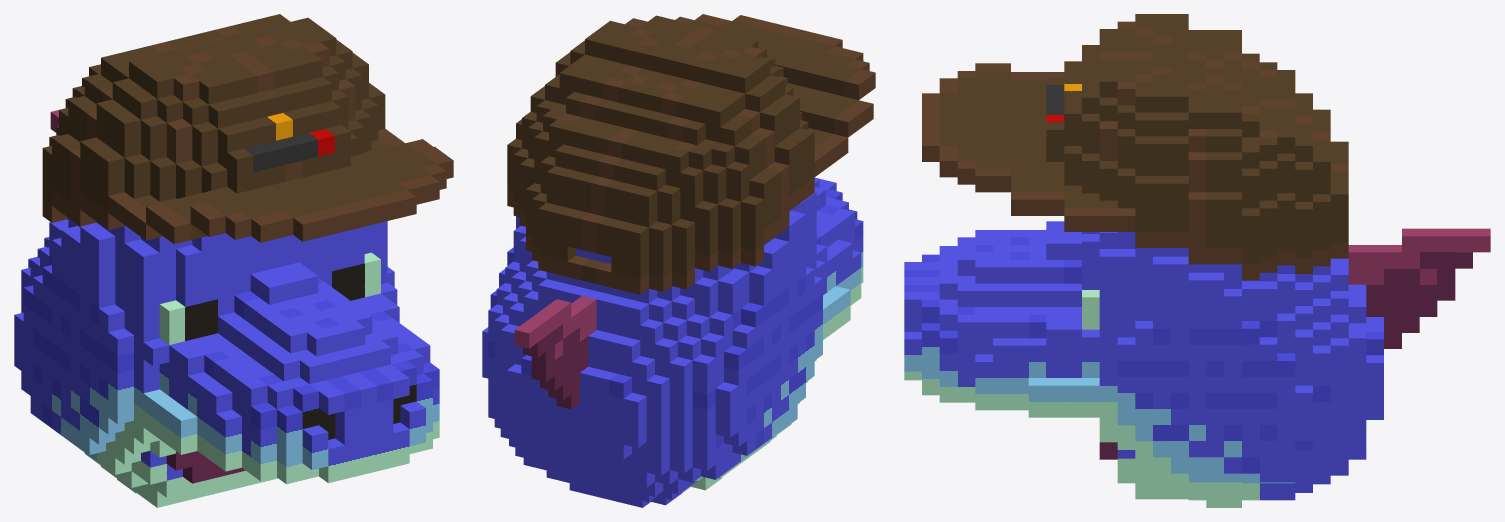
The model's file is wsb hat_red glasses.gltf.
The picture shows the model from 3 angles, left to right: view 1: azimuth 30°, elevation 25°; view 2: azimuth 150°, elevation 25°; view 3: azimuth 270°, elevation 25°; orthographic projection. The views are drawn at different scales.
Visible parts, largest first — view 1: C61_H_WSB_RedG_RBSpec_SkyD_LazerL_VRGg-Mesh; view 2: C61_H_WSB_RedG_RBSpec_SkyD_LazerL_VRGg-Mesh; view 3: C61_H_WSB_RedG_RBSpec_SkyD_LazerL_VRGg-Mesh.
Boxes of the visible parts, box(x1,y1,x2,y2) form: C61_H_WSB_RedG_RBSpec_SkyD_LazerL_VRGg-Mesh: box(14, 14, 453, 507); C61_H_WSB_RedG_RBSpec_SkyD_LazerL_VRGg-Mesh: box(482, 14, 875, 507); C61_H_WSB_RedG_RBSpec_SkyD_LazerL_VRGg-Mesh: box(904, 14, 1490, 507).
Bounding box in the file's own units: 17 × 26 × 33.
1 material, 1 textured.
